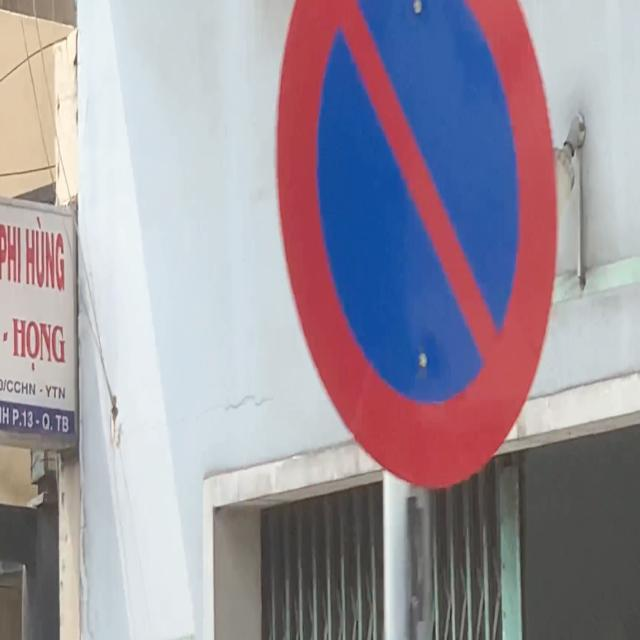Cam do: (267, 0, 558, 500)
